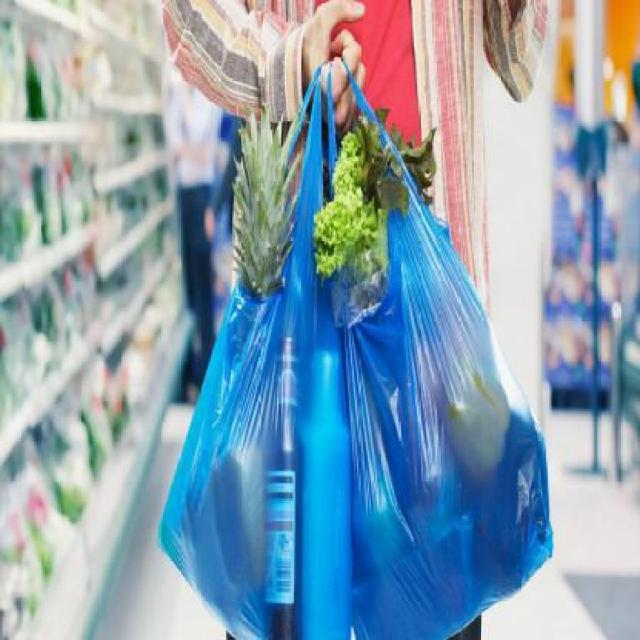plastic bag: (327, 44, 560, 640), (158, 99, 372, 638)
